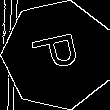P_E: (28, 31, 87, 79)
